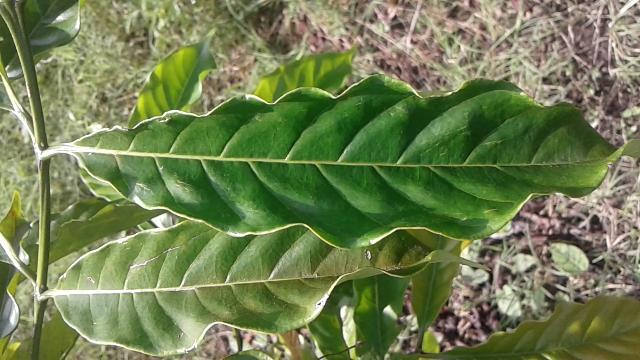healthy: (62, 73, 640, 254)
